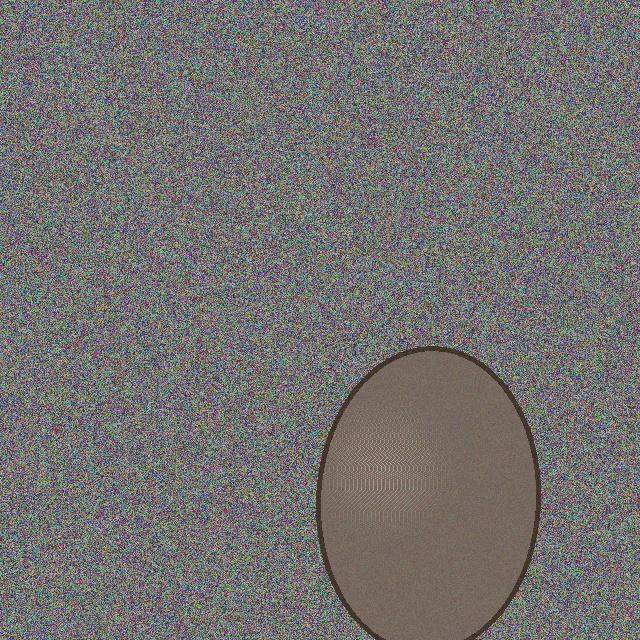lens: (318, 348, 538, 640)
